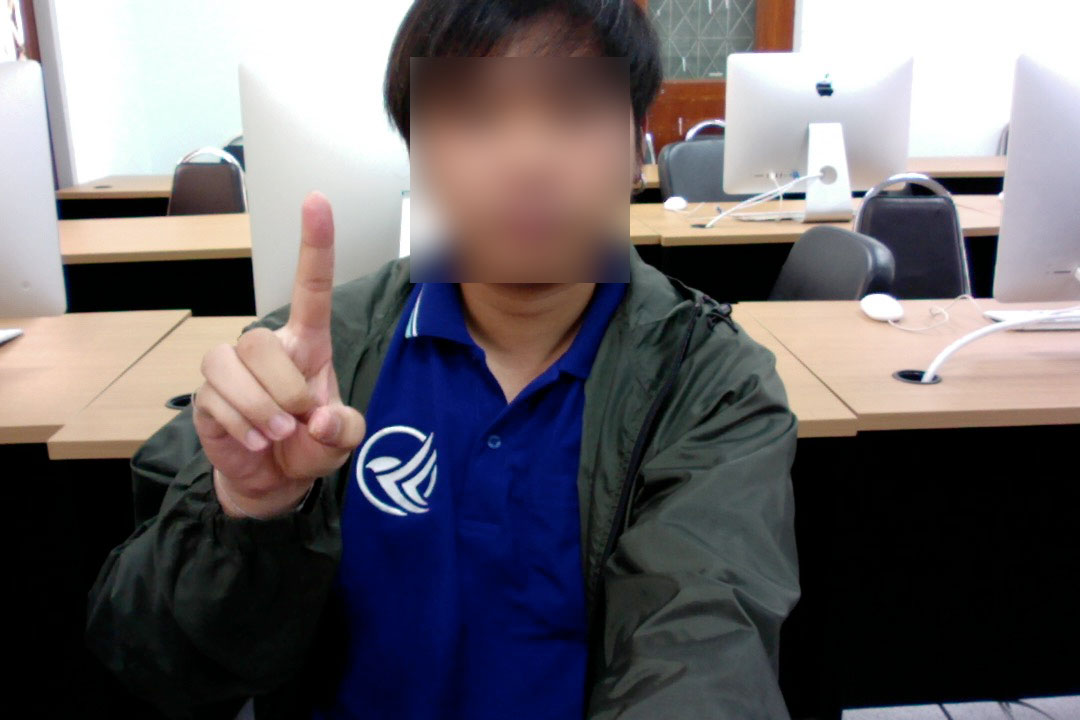dor: (191, 186, 375, 500)
